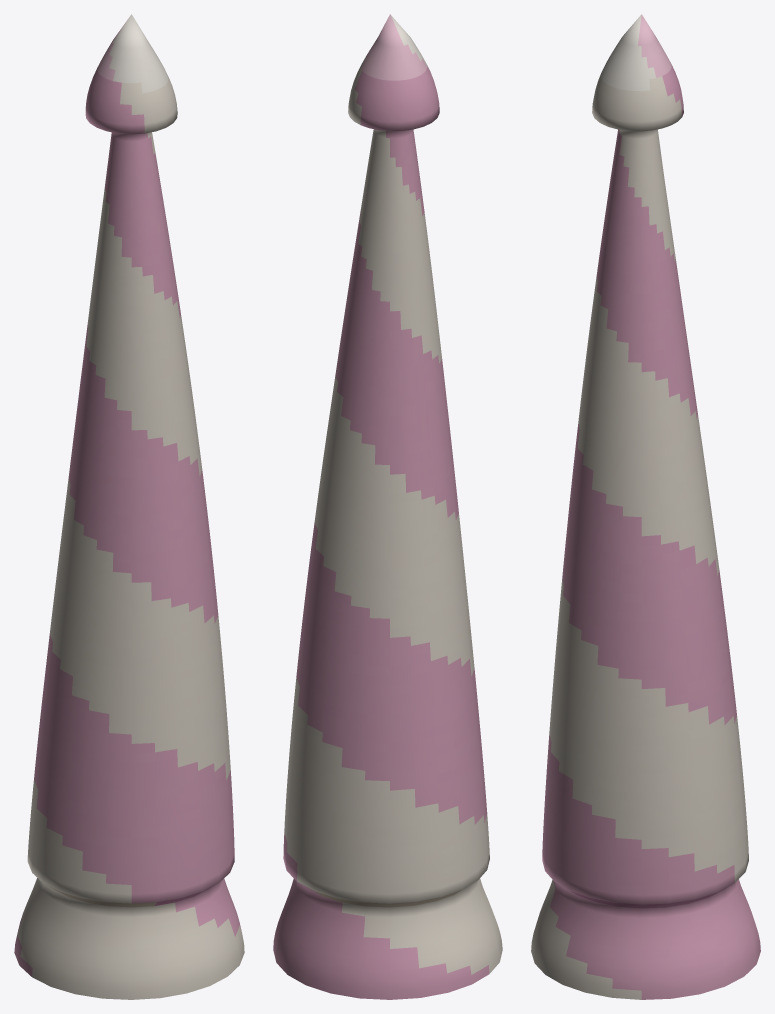
Rendered from Candy_Spire.glb.
3 views of the same model, side by side, from view 1: azimuth 30°, elevation 25°; view 2: azimuth 150°, elevation 25°; view 3: azimuth 270°, elevation 25° (orthographic).
Parts seen in each view (by area): view 1: CandySpire; view 2: CandySpire; view 3: CandySpire.
Part boxes in pixels (<box>): CandySpire: <box>14,14,244,999</box>; CandySpire: <box>273,14,502,999</box>; CandySpire: <box>531,14,760,999</box>.
Size of the model in its own units: 0.8 by 3.6 by 0.8.
